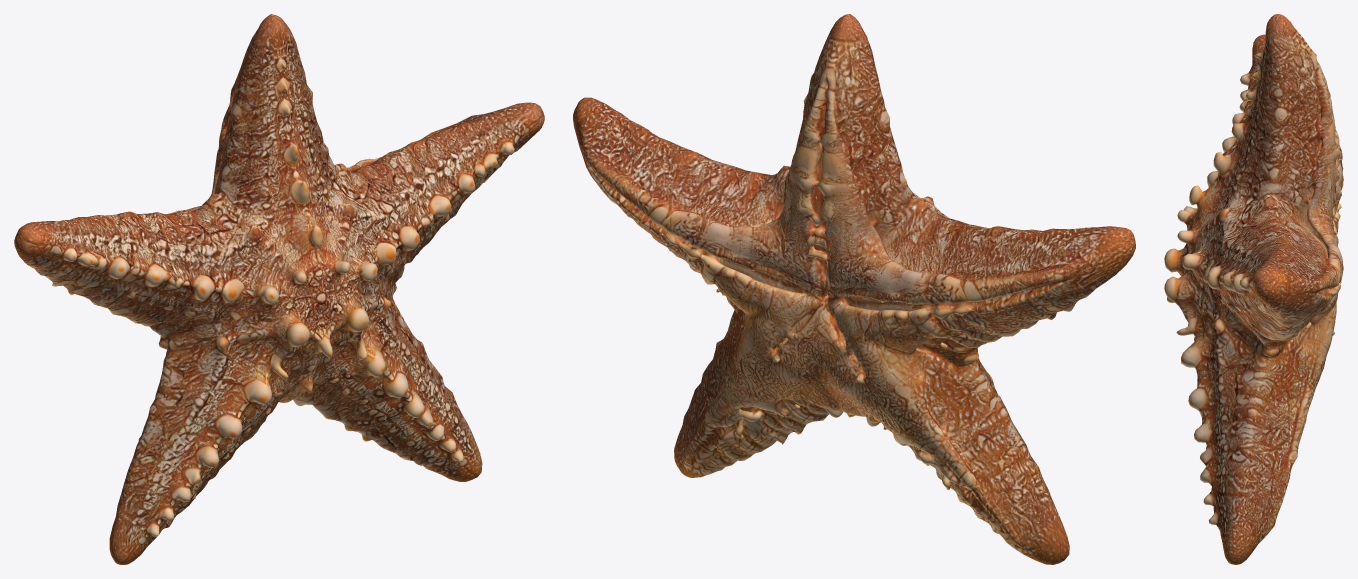
Rendered from starfish.glb.
The picture shows the model from 3 angles, left to right: view 1: azimuth 30°, elevation 25°; view 2: azimuth 150°, elevation 25°; view 3: azimuth 270°, elevation 25°; orthographic projection. The views are drawn at different scales.
Visible parts, largest first — view 1: model; view 2: model; view 3: model.
Boxes of the visible parts, x1=… form: model: x1=14, y1=14, x2=544, y2=564; model: x1=573, y1=14, x2=1135, y2=564; model: x1=1164, y1=14, x2=1343, y2=564.
Bounding box in the file's own units: 1.89 × 1.69 × 0.5833.
1 material, 1 textured.
